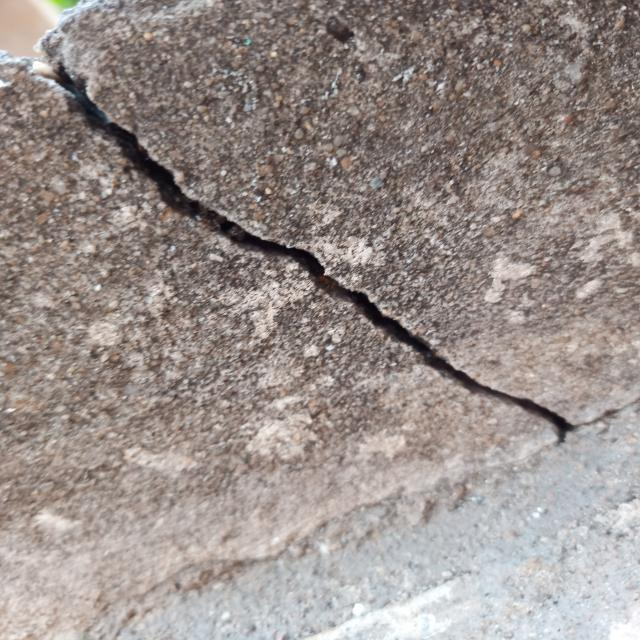diagonal crack: (33, 61, 573, 440)
